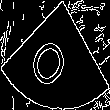O_NE: (31, 21, 79, 89)
